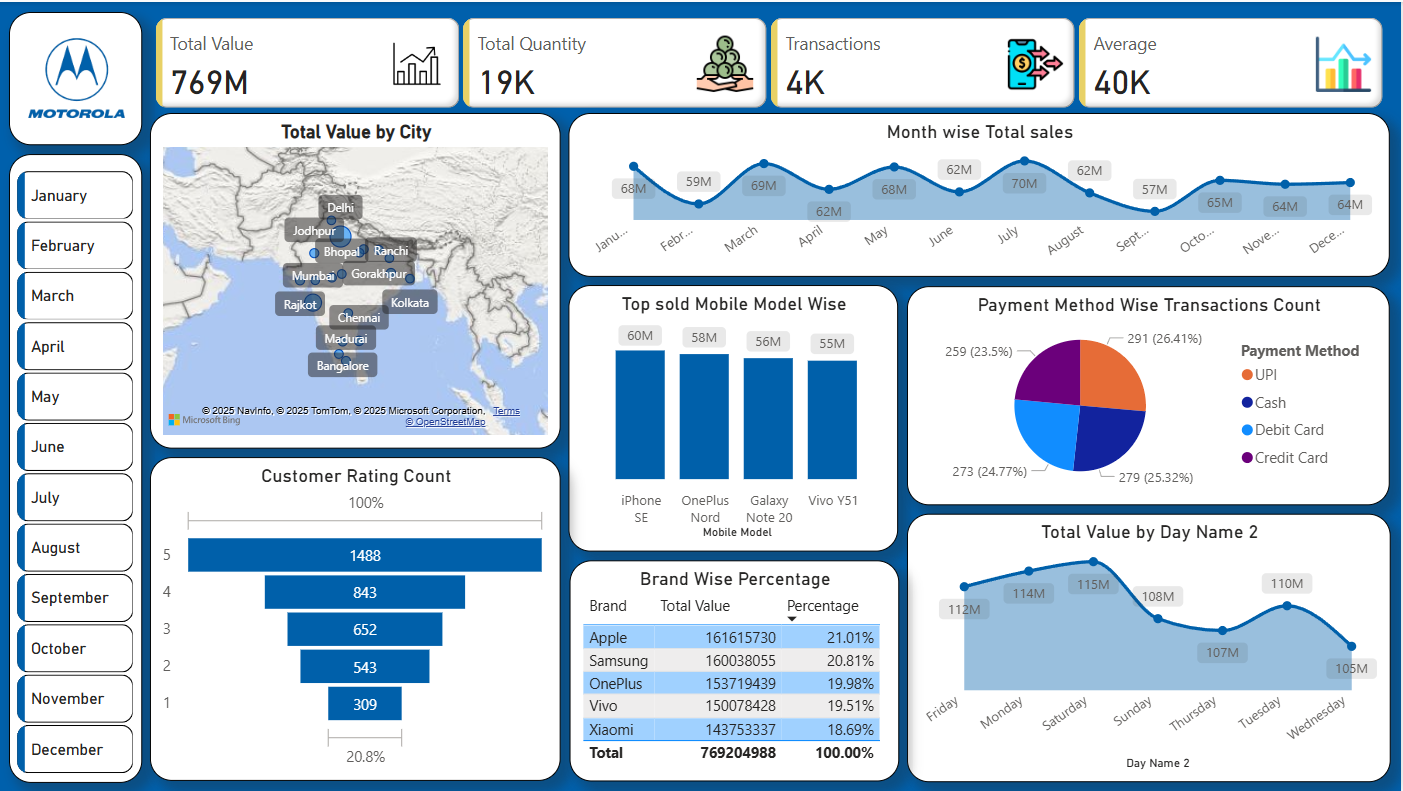

Layout of this report page (visuals, bound fields, positions):
{"tool":"powerbi","page":{"name":"Mobile Sales Dashboard","canvas":[1280,720],"ordinal":0},"visuals":[{"type":"shape","box":[9.1,9.1,121.5,121.5],"z":0},{"type":"image","box":[21.6,9.1,98.8,121.5],"z":1000},{"type":"shape","box":[9.1,138.6,121.5,573.5],"z":2000},{"type":"advancedSlicerVisual","fields":{"Values":["Mobile Sales Data.Date.Variation.Date Hierarchy.Month"]},"box":[11.4,148.8,117,563.3],"z":3000},{"type":"cardVisual","fields":{"Data":["Mobile Sales Data.Total Value","Mobile Sales Data.Total Quantity Sold","Mobile Sales Data.Total Transactions","Mobile Sales Data.Average"]},"box":[137.8,9.1,1131.5,92.2],"z":4000},{"type":"map","fields":{"Category":["Mobile Sales Data.City"],"Size":["Mobile Sales Data.Total Value"]},"box":[137.8,101.3,374.8,305.9],"z":5000},{"type":"lineChart","title":"Month wise Total sales","fields":{"Category":["Mobile Sales Data.Date.Variation.Date Hierarchy.Month","Mobile Sales Data.Date.Variation.Date Hierarchy.Day"],"Y":["Mobile Sales Data.Total Value"]},"box":[519.7,101.3,749.6,149.9],"z":6000},{"type":"columnChart","title":"Top sold  Mobile Model Wise ","fields":{"Category":["Mobile Sales Data.Mobile Model"],"Y":["Mobile Sales Data.Total Value"]},"box":[519.7,258.3,300.9,243.1],"z":8000},{"type":"pieChart","title":"Payment Method Wise Transactions Count","fields":{"Category":["Mobile Sales Data.Payment Method"],"Y":["Mobile Sales Data.Total Transactions"]},"box":[828.6,259.3,440.6,199.6],"z":9000},{"type":"funnel","title":"Customer Rating Count","fields":{"Y":["CountNonNull(Mobile Sales Data.Customer Ratings)"],"Category":["Mobile Sales Data.Customer Ratings"]},"box":[137.8,415.3,374.8,295.8],"z":10000},{"type":"areaChart","fields":{"Category":["Mobile Sales Data.Day Name 2"],"Y":["Mobile Sales Data.Total Value"]},"box":[828.6,467,441.7,245.1],"z":10001},{"type":"tableEx","title":"Brand Wise Percentage","fields":{"Values":["Mobile Sales Data.Brand","Mobile Sales Data.Total Value","Divide(Mobile Sales Data.Total Value, ScopedEval(Mobile Sales Data.Total Value, []))"]},"box":[520.7,509.5,300.9,201.6],"z":10002}]}

Visuals, with their boxes in screenshot pixels (x1, y1, x2, y2), scaled from the page's 1280x720 canvas onto the 1403x791 screenshot:
shape: box(10, 10, 143, 143)
image: box(24, 10, 132, 143)
shape: box(10, 152, 143, 782)
advancedSlicerVisual - Mobile Sales Data.Date.Variation.Date Hierarchy.Month: box(12, 163, 141, 782)
cardVisual - Mobile Sales Data.Total Value x Mobile Sales Data.Total Quantity Sold: box(151, 10, 1391, 111)
map - Mobile Sales Data.City x Mobile Sales Data.Total Value: box(151, 111, 562, 447)
"Month wise Total sales" lineChart: box(570, 111, 1391, 276)
"Top sold  Mobile Model Wise " columnChart: box(570, 284, 899, 551)
"Payment Method Wise Transactions Count" pieChart: box(908, 285, 1391, 504)
"Customer Rating Count" funnel: box(151, 456, 562, 781)
areaChart - Mobile Sales Data.Day Name 2 x Mobile Sales Data.Total Value: box(908, 513, 1392, 782)
"Brand Wise Percentage" tableEx: box(571, 560, 901, 781)
